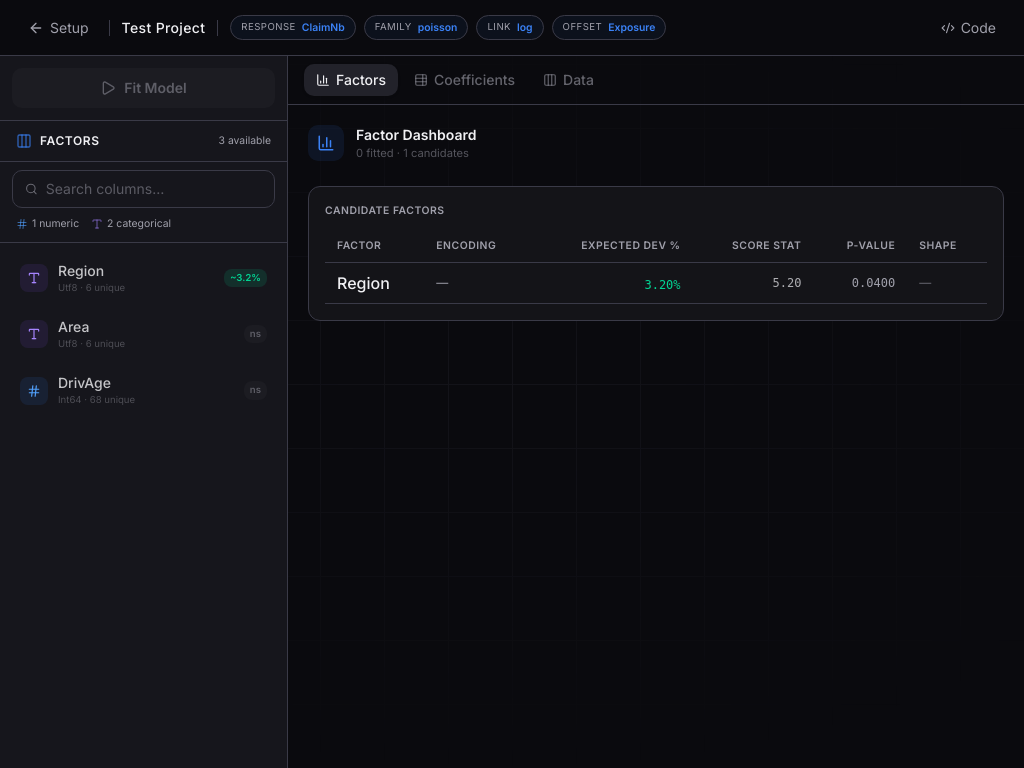
Scenario: ModelBuilderPage › right-clicking a numeric factor opens context menu with numeric options
# Right-click on the "DrivAge" factor row
Right-click the text "DrivAge" at (84, 383), box [58,374,111,391]
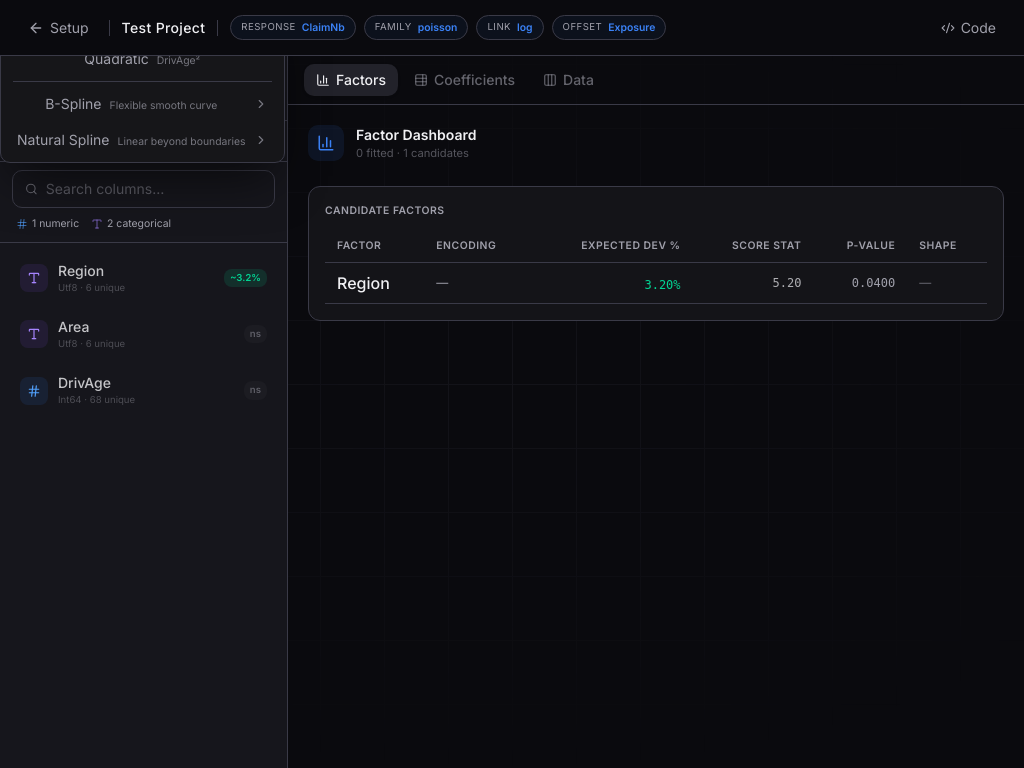
Check: the text "Linear" is shown, box [47,14,88,31]
Check: the text "B-Spline" is shown, box [45,95,102,112]
Check: the text "Natural Spline" is shown, box [17,131,110,148]
